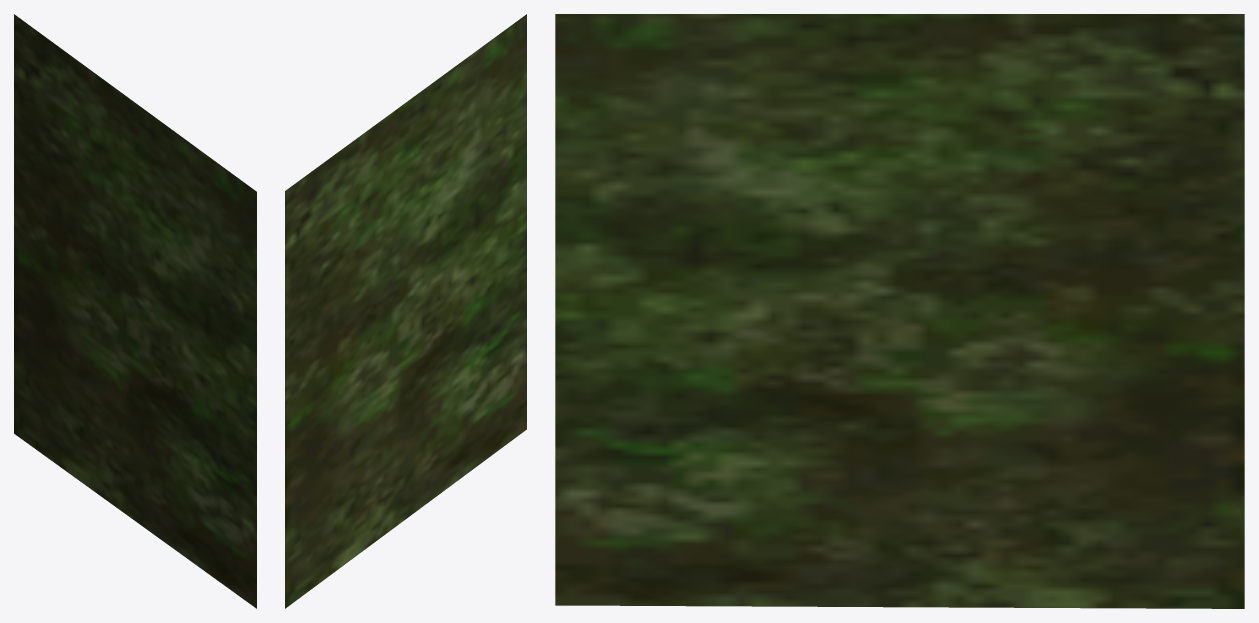
The model's file is OVERHILL_A_01_OBJECT88.fbx.
The picture shows the model from 3 angles, left to right: view 1: azimuth 30°, elevation 25°; view 2: azimuth 150°, elevation 25°; view 3: azimuth 270°, elevation 25°; orthographic projection. The views are drawn at different scales.
Visible parts, largest first — view 1: OVERHILL_A_01_OBJECT88; view 2: OVERHILL_A_01_OBJECT88; view 3: OVERHILL_A_01_OBJECT88.
Boxes of the visible parts, x1,y1,x2,y2 form: OVERHILL_A_01_OBJECT88: (14,14,256,608); OVERHILL_A_01_OBJECT88: (285,14,526,608); OVERHILL_A_01_OBJECT88: (555,14,1244,608).
Bounding box in the file's own units: 0 × 23632 × 24802.
Materials: 1 (1 with a texture image).
